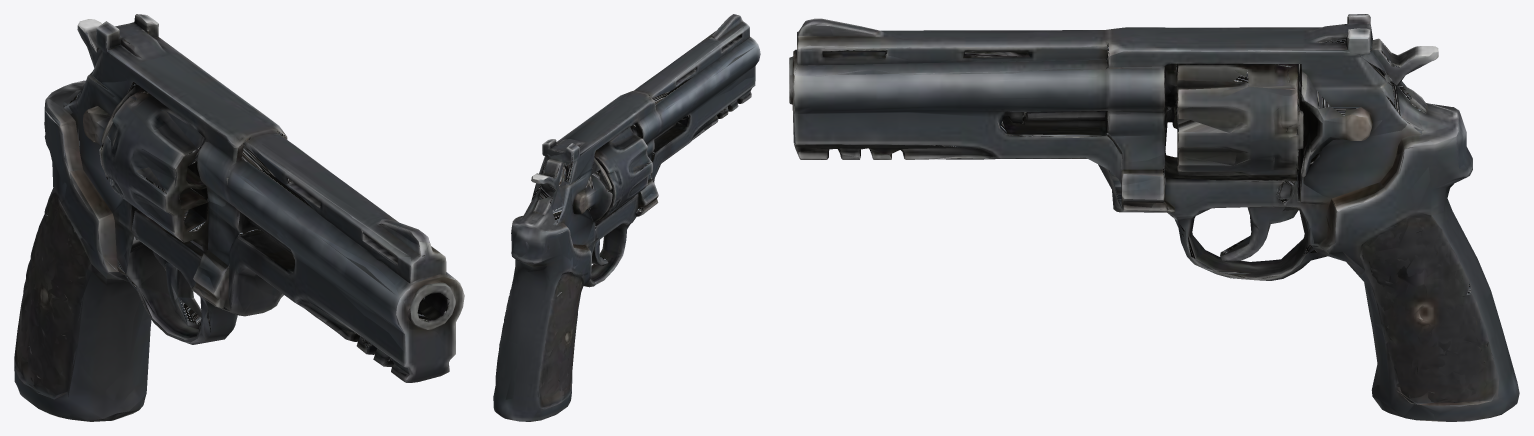
File: revolver_rustique.glb
3 renders of one model, left to right at view 1: azimuth 30°, elevation 25°; view 2: azimuth 150°, elevation 25°; view 3: azimuth 270°, elevation 25°, orthographic. The views are drawn at different scales.
Visible parts, largest first — view 1: model, mesh_lod; view 2: model, mesh_lod; view 3: model, mesh_lod.
Part boxes in pixels (x1=…): model: x1=14, y1=14, x2=464, y2=421; mesh_lod: x1=14, y1=22, x2=462, y2=420; model: x1=493, y1=14, x2=760, y2=421; mesh_lod: x1=496, y1=17, x2=759, y2=419; model: x1=789, y1=14, x2=1519, y2=421; mesh_lod: x1=791, y1=18, x2=1511, y2=420.
Bounding box in the file's own units: 0.0505 × 0.1665 × 0.29.
Materials: 1 (1 with a texture image).
